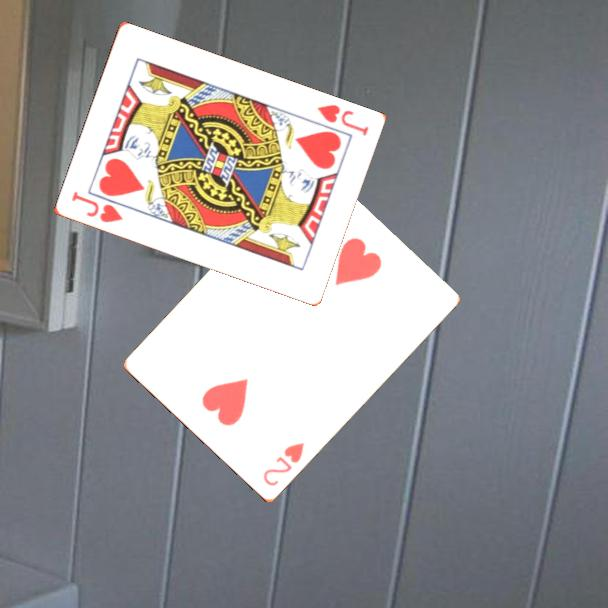h02: (259, 439, 308, 489)
h11: (67, 188, 125, 226), (313, 101, 371, 139)
